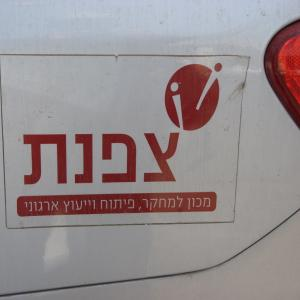Vehicle-registration-plate: (3, 25, 300, 266)
